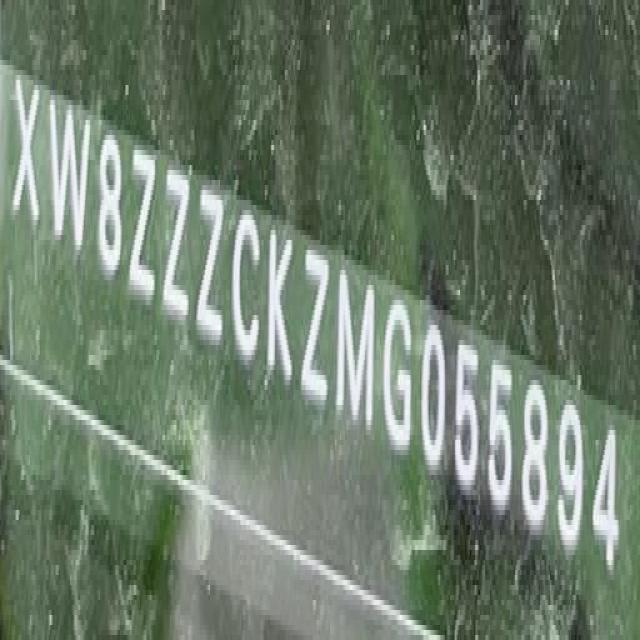0: (418, 306, 449, 482)
4: (593, 415, 624, 576)
5: (485, 342, 516, 516), (454, 322, 483, 499)
8: (521, 371, 551, 537), (96, 126, 125, 287)
9: (556, 391, 588, 556)
C: (230, 199, 263, 375)
G: (382, 281, 418, 462)
K: (266, 217, 297, 398)
M: (336, 256, 379, 442)
W: (43, 87, 91, 264)
X: (9, 64, 43, 238)
Z: (302, 236, 334, 420), (161, 158, 194, 331), (197, 176, 229, 351), (128, 139, 160, 312)
